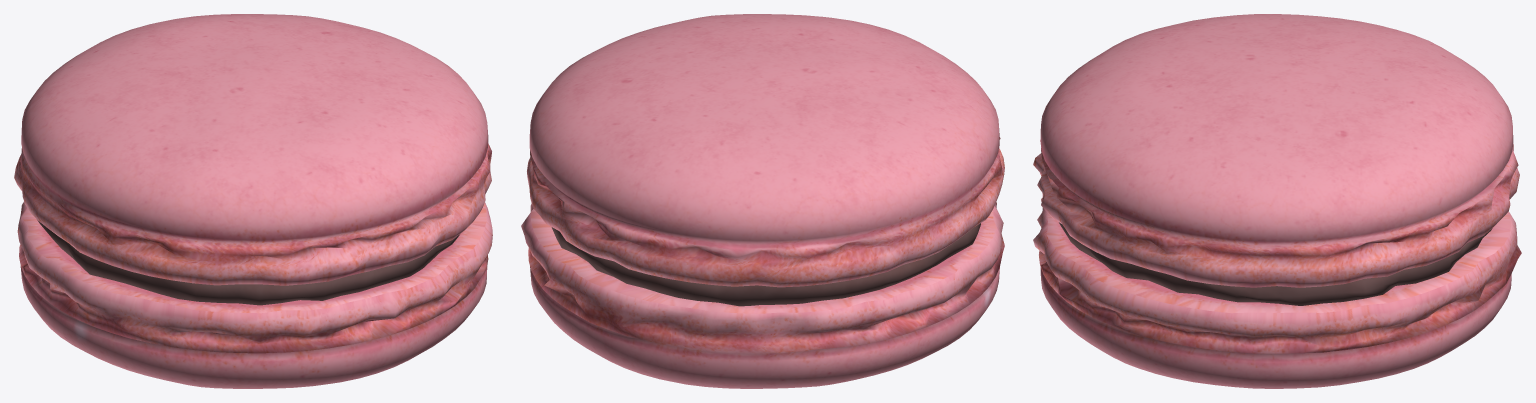
The model's file is macarons.glb.
The picture shows the model from 3 angles, left to right: view 1: azimuth 30°, elevation 25°; view 2: azimuth 150°, elevation 25°; view 3: azimuth 270°, elevation 25°; orthographic projection.
Parts seen in each view (by area): view 1: macaron_2_low; view 2: macaron_2_low; view 3: macaron_2_low.
Part boxes in pixels (x1,y1,x2,y2): macaron_2_low: (14,14,492,388); macaron_2_low: (521,14,1004,388); macaron_2_low: (1033,14,1521,388).
Bounding box in the file's own units: 4.48 × 2.72 × 4.59.
1 material, 1 textured.
